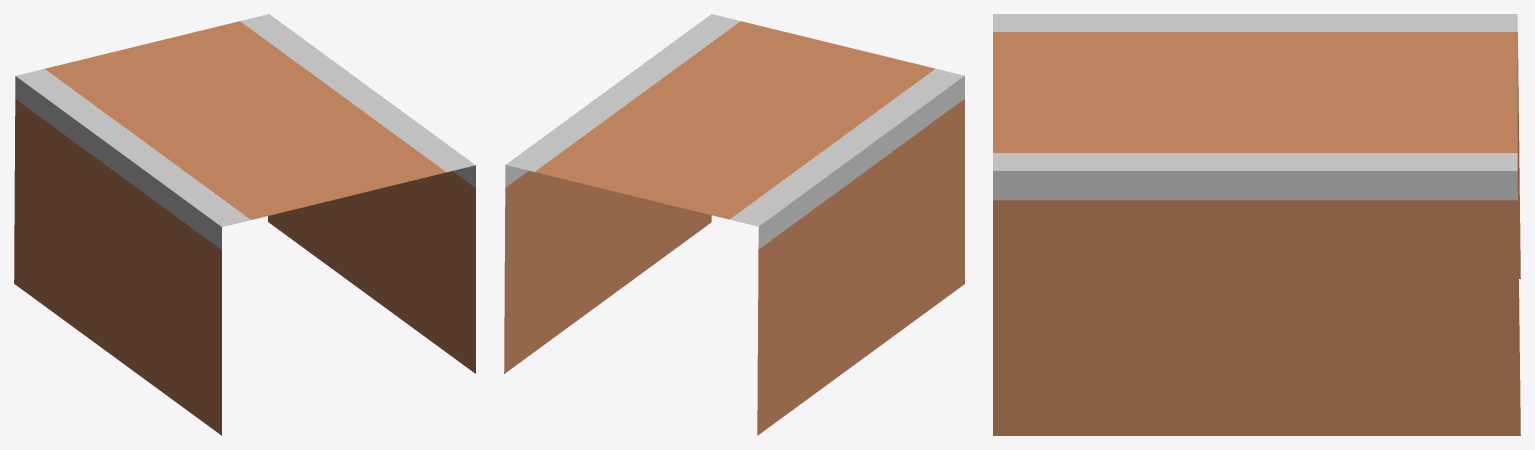
Rendered from terrain5.fbx.
3 renders of one model, left to right at view 1: azimuth 30°, elevation 25°; view 2: azimuth 150°, elevation 25°; view 3: azimuth 270°, elevation 25°, orthographic. The views are drawn at different scales.
Visible parts, largest first — view 1: terrain5; view 2: terrain5; view 3: terrain5.
Part boxes in pixels (x1=…): terrain5: x1=14, y1=14, x2=475, y2=435; terrain5: x1=504, y1=14, x2=964, y2=435; terrain5: x1=993, y1=14, x2=1520, y2=435.
Size of the model in its own units: 284 by 223 by 403.
